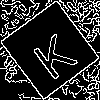K: (25, 25, 79, 82)
